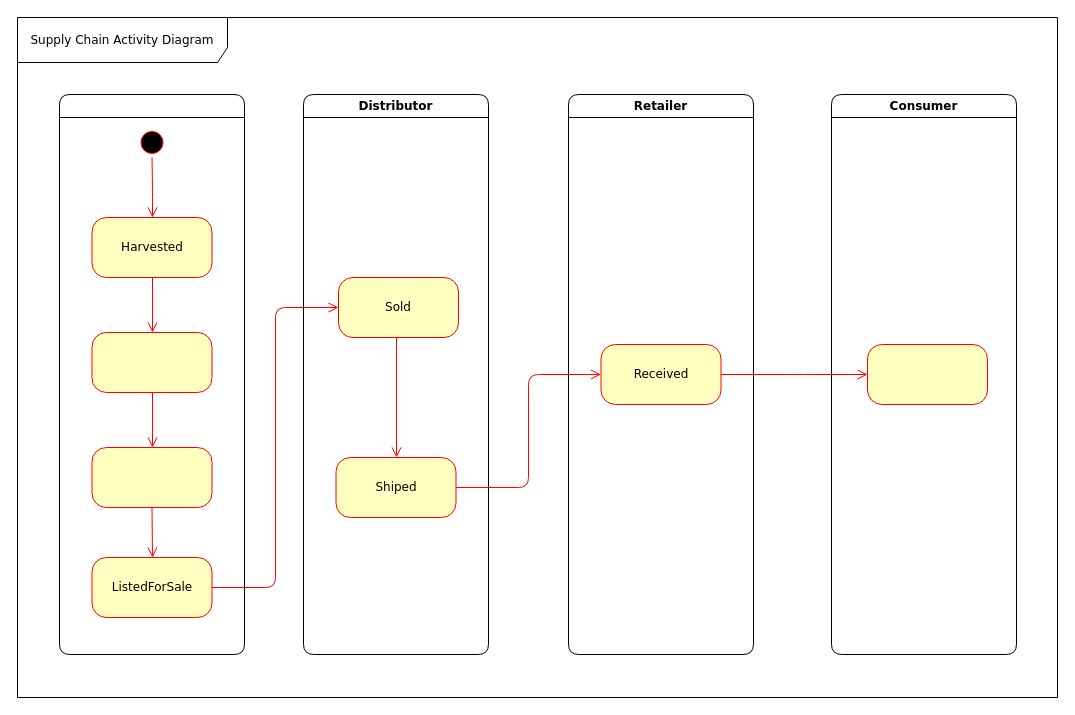
Image size: 1075x715. Some labels were removed from this diagram. Each missing label, with the box of its shape:
Farmer: (58, 94, 244, 654)
Packed: (91, 446, 212, 508)
Processed: (91, 332, 212, 392)
Purchased: (866, 344, 988, 404)
